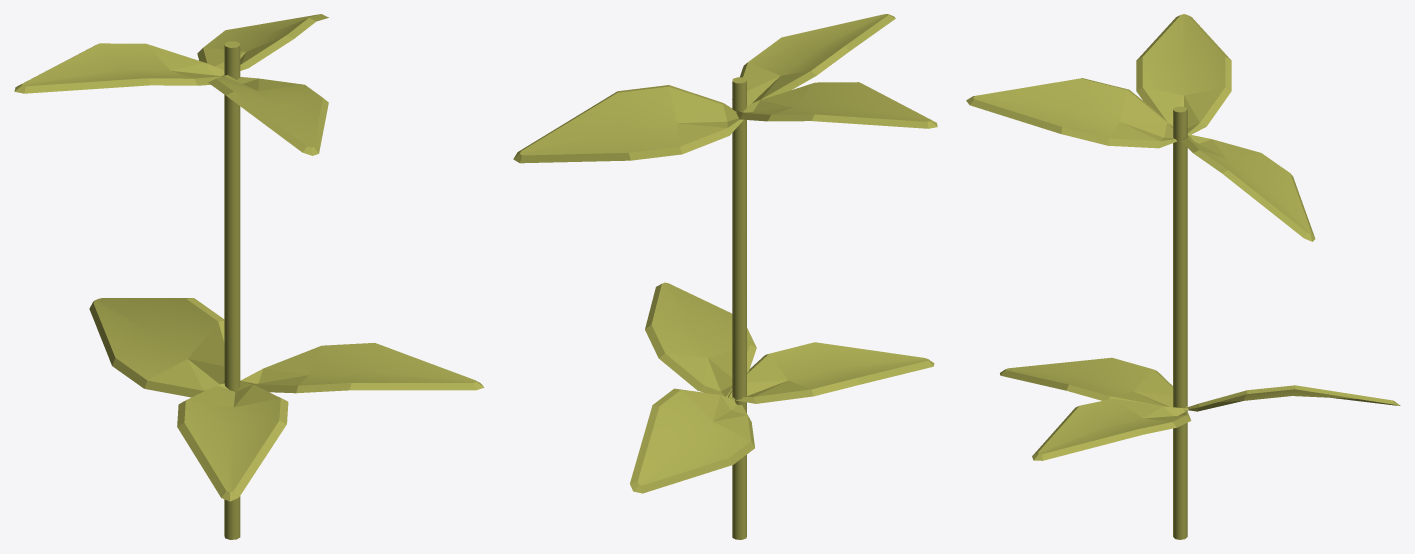
Rendered from SM_plant_a_01.fbx.
3 renders of one model, left to right at view 1: azimuth 30°, elevation 25°; view 2: azimuth 150°, elevation 25°; view 3: azimuth 270°, elevation 25°, orthographic. The views are drawn at different scales.
Parts seen in each view (by area): view 1: plant_a_01; view 2: plant_a_01; view 3: plant_a_01.
Part boxes in pixels (<box>): plant_a_01: <box>14,14,484,539</box>; plant_a_01: <box>513,14,937,539</box>; plant_a_01: <box>966,14,1400,539</box>.
Bounding box in the file's own units: 62.13 × 77.18 × 69.94.
